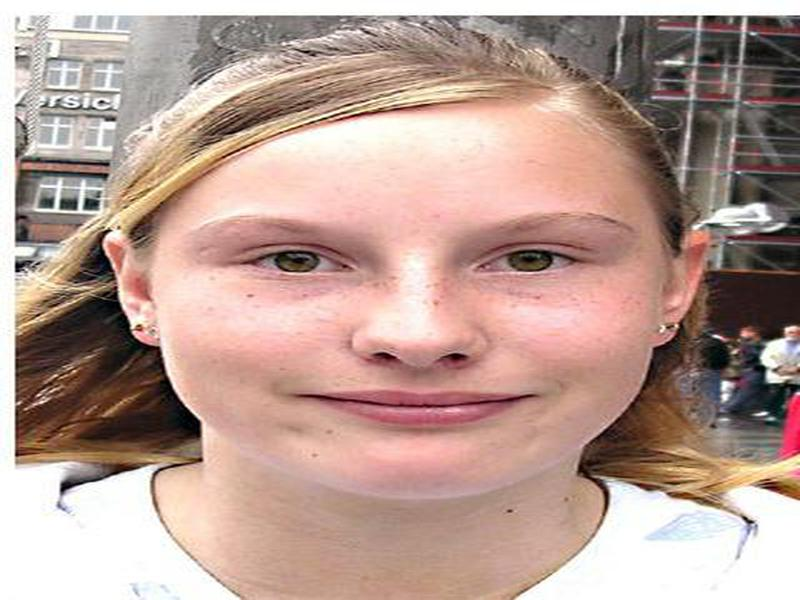without_mask: (155, 151, 661, 510)
